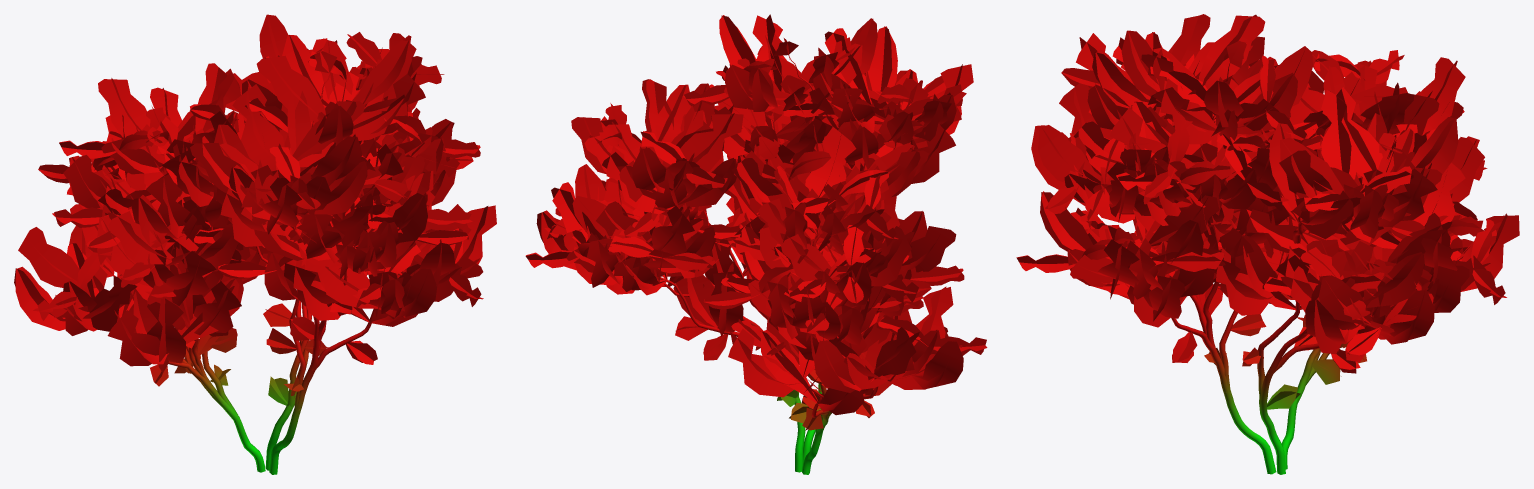
File: European Spindle_LOD3_Var17.fbx
3 views of the same model, side by side, from view 1: azimuth 30°, elevation 25°; view 2: azimuth 150°, elevation 25°; view 3: azimuth 270°, elevation 25° (orthographic). The views are drawn at different scales.
Parts seen in each view (by area): view 1: _pvfb_Var17_LOD3; view 2: _pvfb_Var17_LOD3; view 3: _pvfb_Var17_LOD3.
Boxes of the visible parts, x1,y1,x2,y2 form: _pvfb_Var17_LOD3: (14,14,496,474); _pvfb_Var17_LOD3: (525,14,987,474); _pvfb_Var17_LOD3: (1016,14,1519,474).
Bounding box in the file's own units: 319 × 288 × 291.
